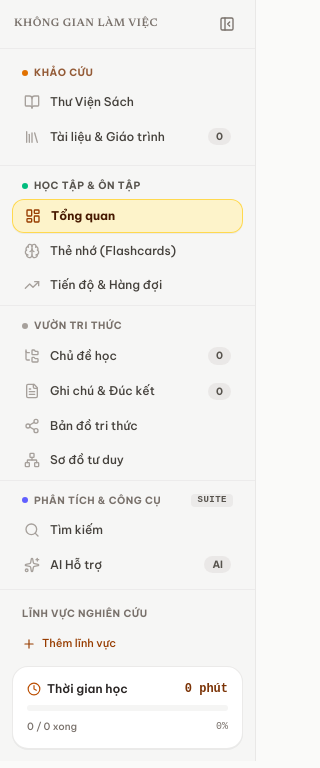
Test: App Shell & Collapsible Sidebar Refactor › 2. AppSidebar Collapsible Behavior › cho phép thu gọn (collapse) và mở rộng (expand) khi nhấn nút toggle
The width and height of the screenshot is (320, 768).
// Click to collapse
Click the button with test id "toggle-app-sidebar-btn": {"x": 227, "y": 24} [213,10,241,38]
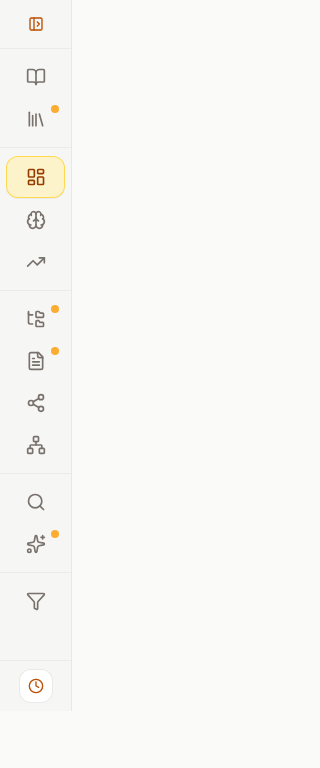
expect the text "Khảo Cứu" is gone: met
// Click again to expand
Click the button with test id "toggle-app-sidebar-btn": {"x": 36, "y": 24} [22,10,50,38]
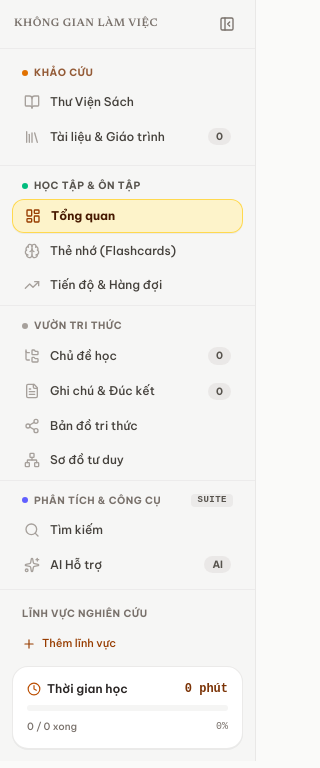
expect the text "Khảo Cứu" is shown: met, box [34,65,93,80]
